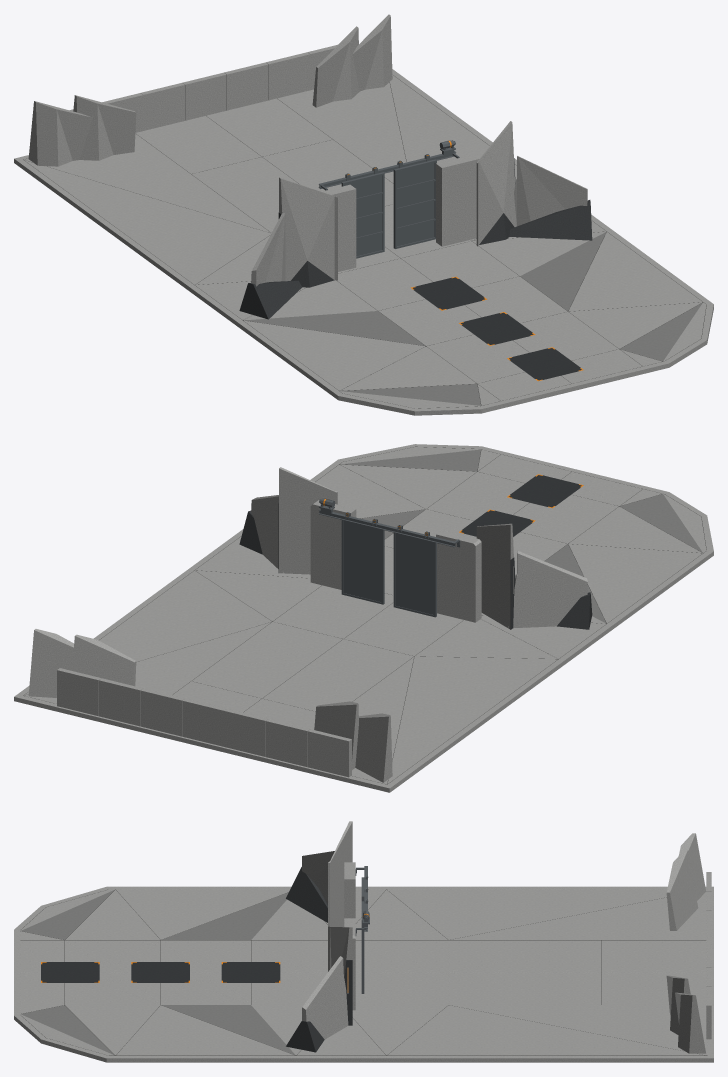
File: architecture.glb
3 renders of one model, top to bottom at view 1: azimuth 30°, elevation 25°; view 2: azimuth 150°, elevation 25°; view 3: azimuth 270°, elevation 25°, orthographic. The views are drawn at different scales.
Parts seen in each view (by area): view 1: floor__V2_drafted_coplanar_floor, W02_left__folded_fin, W02_right__folded_fin, W01_right__support, E01_left1__rear_fold, W03_right__outer_wing, E01_left0__rear_fold, leaf_right__panel, E01_right0__rear_fold, E01_right1__rear_fold, W04_right__reference_wedge, leaf_left__panel (+8 smaller); view 2: floor__V2_drafted_coplanar_floor, W03_left__outer_wing, W01_left__support, W02_right__folded_fin, W02_left__folded_fin, leaf_right__panel, leaf_left__panel, W01_right__support, E01_right1__rear_fold, E01_left1__rear_fold, E01_right0__rear_fold, backboard_-6__backstop (+10 smaller); view 3: floor__V2_drafted_coplanar_floor, W03_right__outer_wing, E01_left0__rear_fold, W02_left__folded_fin, E01_right1__rear_fold, W04_left__reference_wedge, W02_right__folded_fin, W03_left__outer_wing, E01_left1__rear_fold, W04_right__reference_wedge, E01_right0__rear_fold, W01_left__support (+2 smaller).
Part boxes in pixels (x1=…): floor__V2_drafted_coplanar_floor: x1=14, y1=69, x2=713, y2=415; W02_left__folded_fin: x1=279, y1=177, x2=337, y2=287; W02_right__folded_fin: x1=476, y1=121, x2=516, y2=246; W01_right__support: x1=436, y1=154, x2=479, y2=246; E01_left1__rear_fold: x1=28, y1=101, x2=92, y2=166; W03_right__outer_wing: x1=517, y1=156, x2=587, y2=226; E01_left0__rear_fold: x1=73, y1=95, x2=136, y2=160; leaf_right__panel: x1=397, y1=162, x2=434, y2=246; E01_right0__rear_fold: x1=312, y1=26, x2=359, y2=107; E01_right1__rear_fold: x1=352, y1=14, x2=392, y2=91; W04_right__reference_wedge: x1=509, y1=200, x2=592, y2=240; leaf_left__panel: x1=344, y1=175, x2=382, y2=256; floor__V2_drafted_coplanar_floor: x1=14, y1=444, x2=713, y2=792; W03_left__outer_wing: x1=517, y1=550, x2=587, y2=627; W01_left__support: x1=436, y1=530, x2=481, y2=622; W02_right__folded_fin: x1=279, y1=467, x2=337, y2=574; W02_left__folded_fin: x1=476, y1=523, x2=513, y2=629; leaf_right__panel: x1=343, y1=520, x2=381, y2=602; leaf_left__panel: x1=395, y1=533, x2=433, y2=614; W01_right__support: x1=310, y1=500, x2=356, y2=589; E01_right1__rear_fold: x1=28, y1=629, x2=74, y2=697; E01_left1__rear_fold: x1=355, y1=713, x2=392, y2=782; E01_right0__rear_fold: x1=72, y1=634, x2=136, y2=686; backboard_-6__backstop: x1=307, y1=729, x2=351, y2=777; floor__V2_drafted_coplanar_floor: x1=14, y1=886, x2=713, y2=1062; W03_right__outer_wing: x1=302, y1=956, x2=345, y2=1039; E01_left0__rear_fold: x1=666, y1=850, x2=698, y2=930; W02_left__folded_fin: x1=328, y1=821, x2=352, y2=926; E01_right1__rear_fold: x1=675, y1=992, x2=705, y2=1053; W04_left__reference_wedge: x1=286, y1=867, x2=327, y2=922; W02_right__folded_fin: x1=328, y1=926, x2=352, y2=993; W03_left__outer_wing: x1=302, y1=851, x2=334, y2=904; E01_left1__rear_fold: x1=678, y1=833, x2=706, y2=900; W04_right__reference_wedge: x1=286, y1=1021, x2=324, y2=1052; E01_right0__rear_fold: x1=666, y1=975, x2=690, y2=1035; W01_left__support: x1=344, y1=862, x2=355, y2=918.
Bounding box in the file's own units: 18 × 5 × 31.
Materials: 7 (4 with a texture image).
